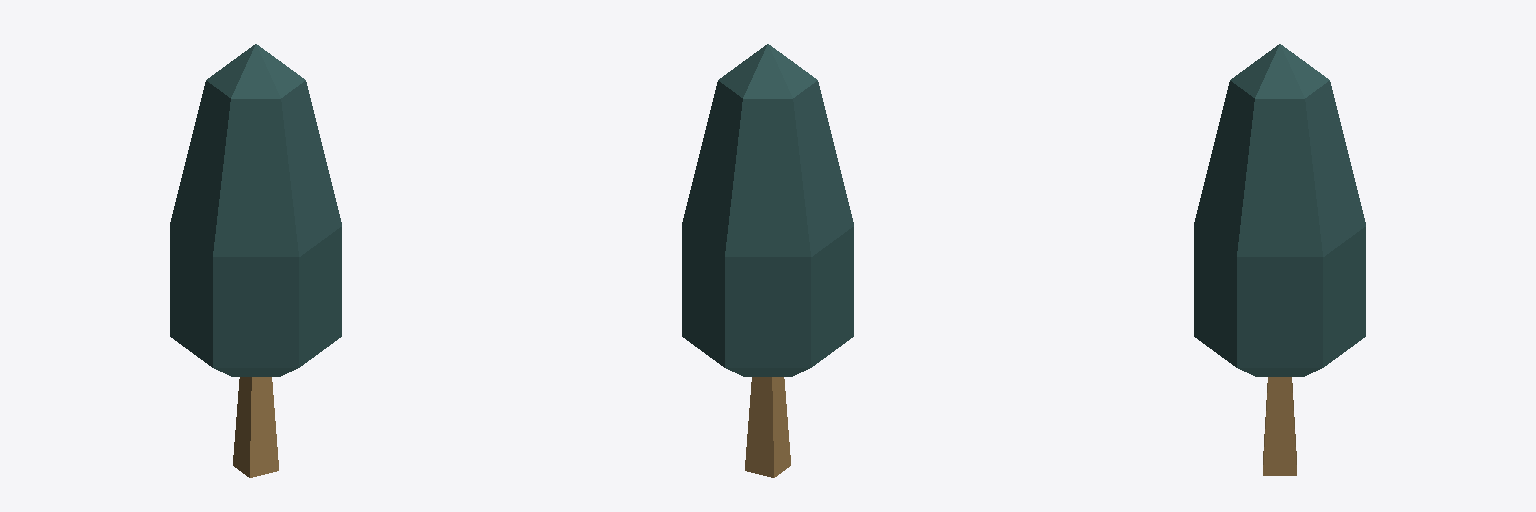
3 views of the same model, side by side, from view 1: azimuth 30°, elevation 25°; view 2: azimuth 150°, elevation 25°; view 3: azimuth 270°, elevation 25° (orthographic).
Visible parts, largest first — view 1: Mesh1 Oak_Dark Model; view 2: Mesh1 Oak_Dark Model; view 3: Mesh1 Oak_Dark Model.
Boxes of the visible parts, box(x1,y1,x2,y2) form: Mesh1 Oak_Dark Model: box(170, 44, 341, 477); Mesh1 Oak_Dark Model: box(682, 44, 853, 477); Mesh1 Oak_Dark Model: box(1194, 44, 1365, 475).
Bounding box in the file's own units: 1.58 × 4.93 × 1.82.
Materials: 1 (1 with a texture image).